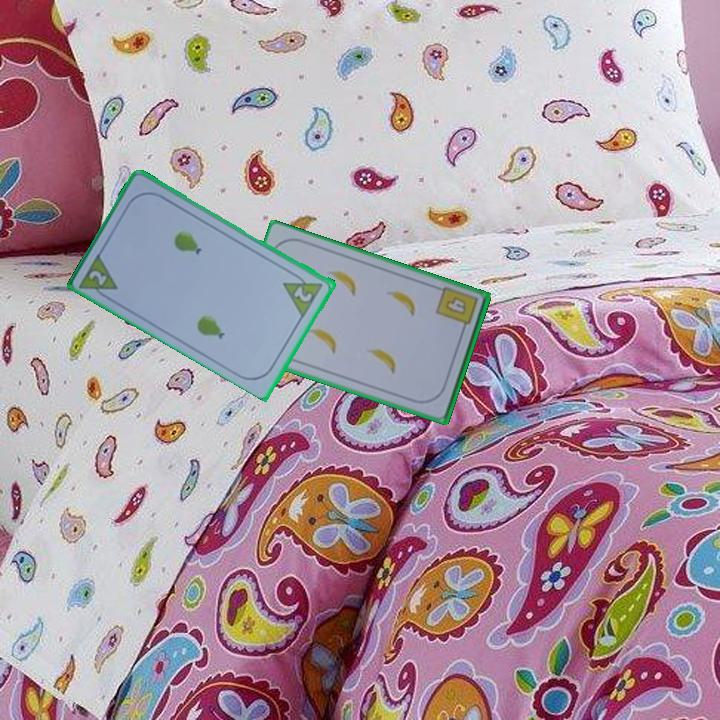2p: (280, 267, 326, 319), (85, 266, 111, 288)
4b: (433, 283, 481, 336)
